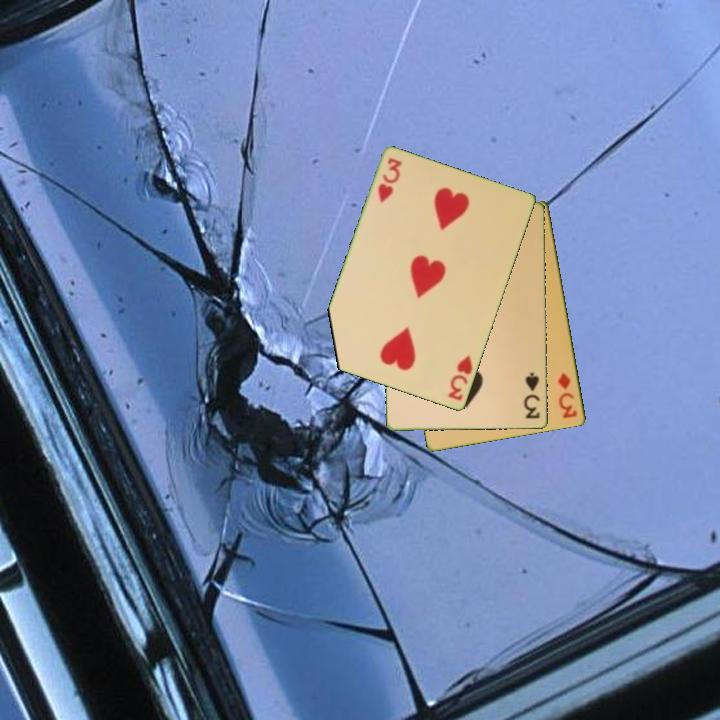3d: (554, 369, 580, 421)
3h: (444, 352, 476, 404), (374, 154, 405, 207)
3s: (521, 369, 543, 422)
